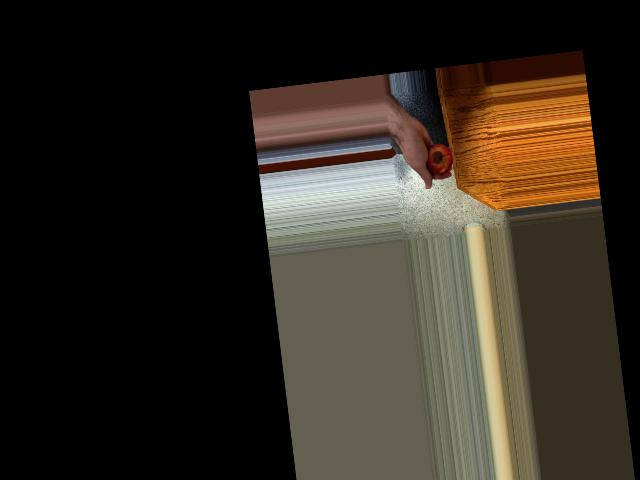apple: (421, 139, 455, 177)
